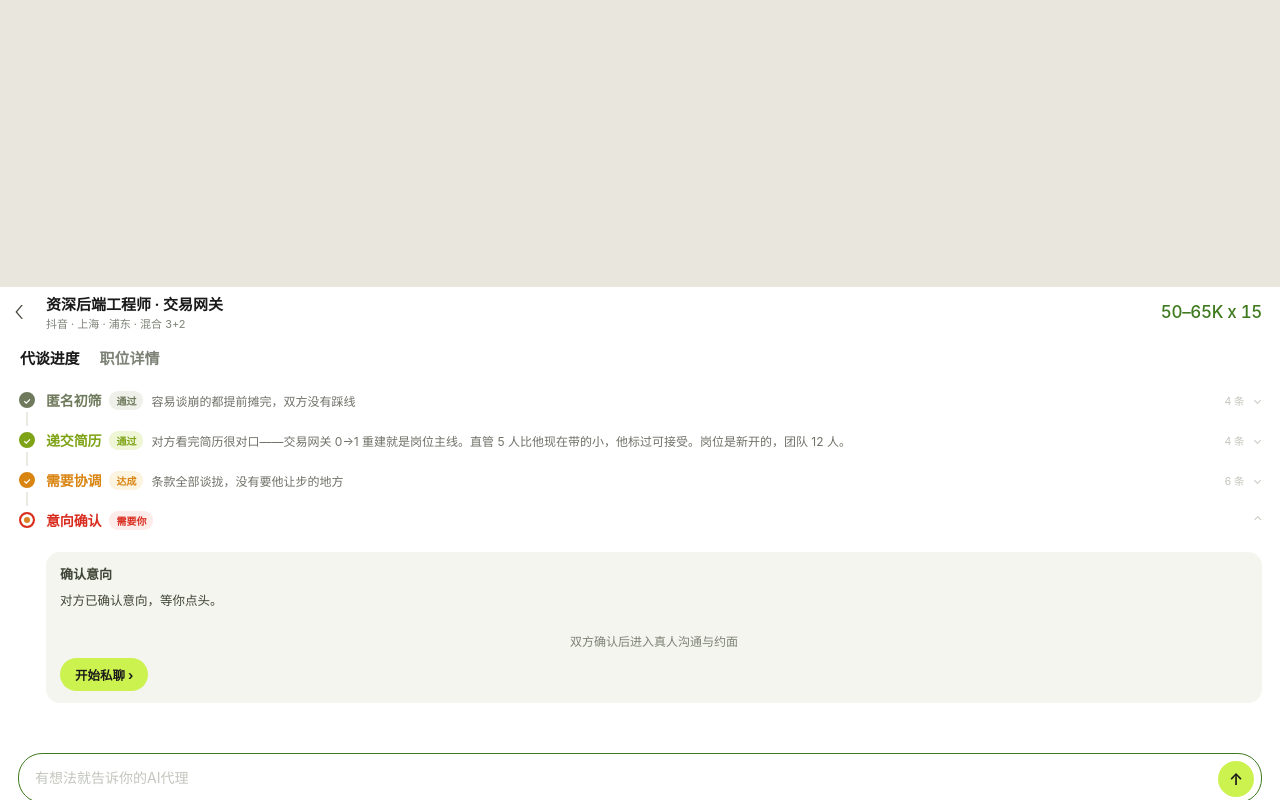
Test: 在谈详情 · Mock 段内记录迁移（Task 3） › 剧本顺序与附件保持：J-01 展开匿名初筛见 4 条对话；递交简历附件只在气泡里一份
(page scrolled)
匿名初筛（已完成 → 默认折叠）点开后：剧本原序 4 条对话，条数徽标只数气泡
Click the button "匿名初筛 通过 容易谈崩的都提前摊完，双方没有踩线 4 条 ⌄" at (74, 400), box [46,388,1262,412]
(page scrolled)
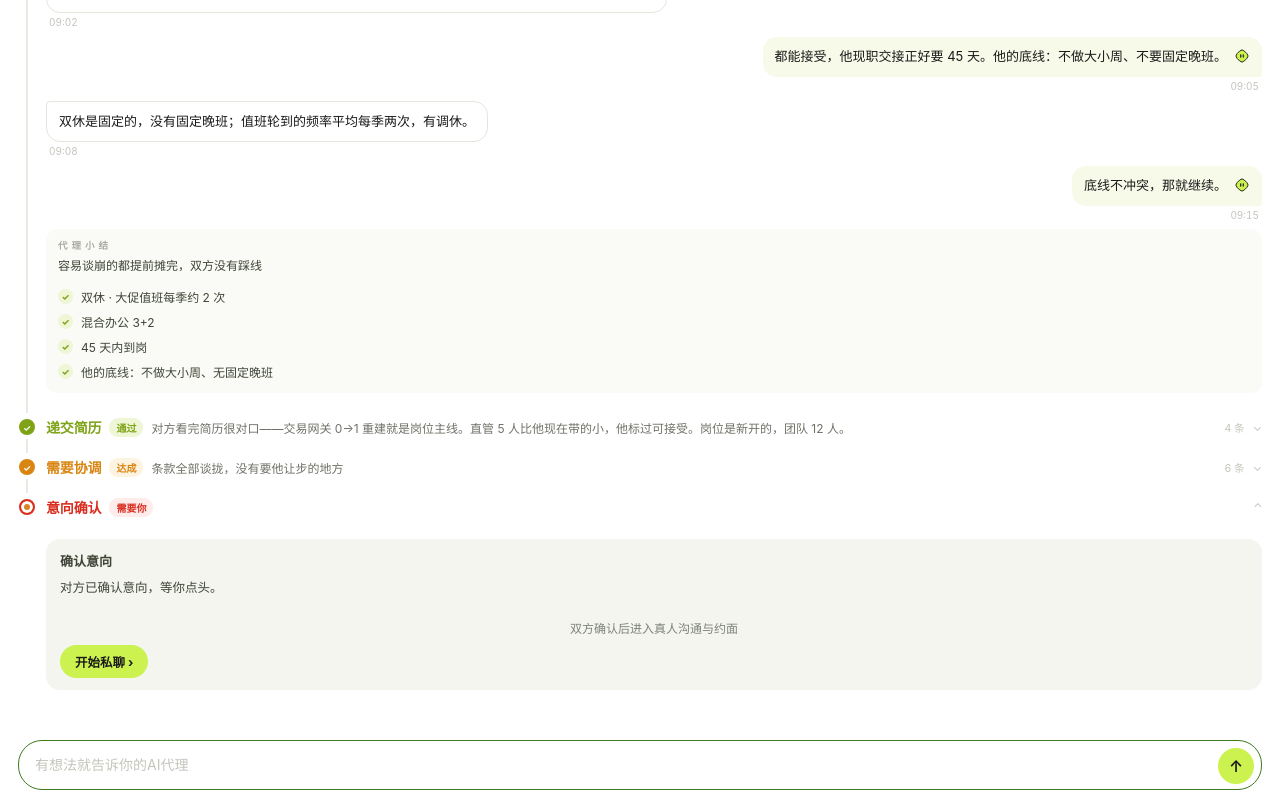
Check: the text "底线不冲突，那就继续。" is shown, box [1084,176,1227,197]
递交简历段的附件挂在第一条气泡里：全文恰好一份，顶部不再另挂独立附件行
Click the button "递交简历" at (654, 427), box [46,415,1262,439]
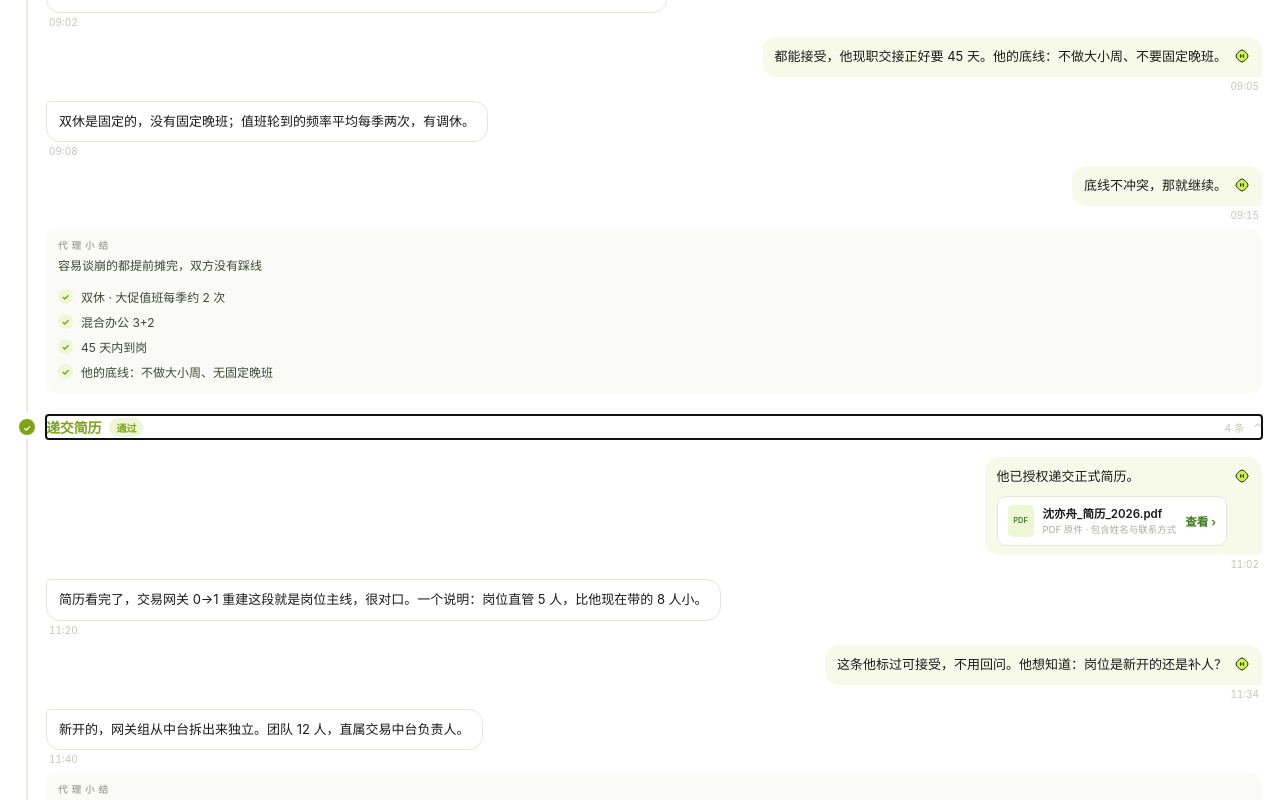
Check: the text "沈亦舟_简历_2026.pdf" is shown once, box [1042,505,1176,521]
